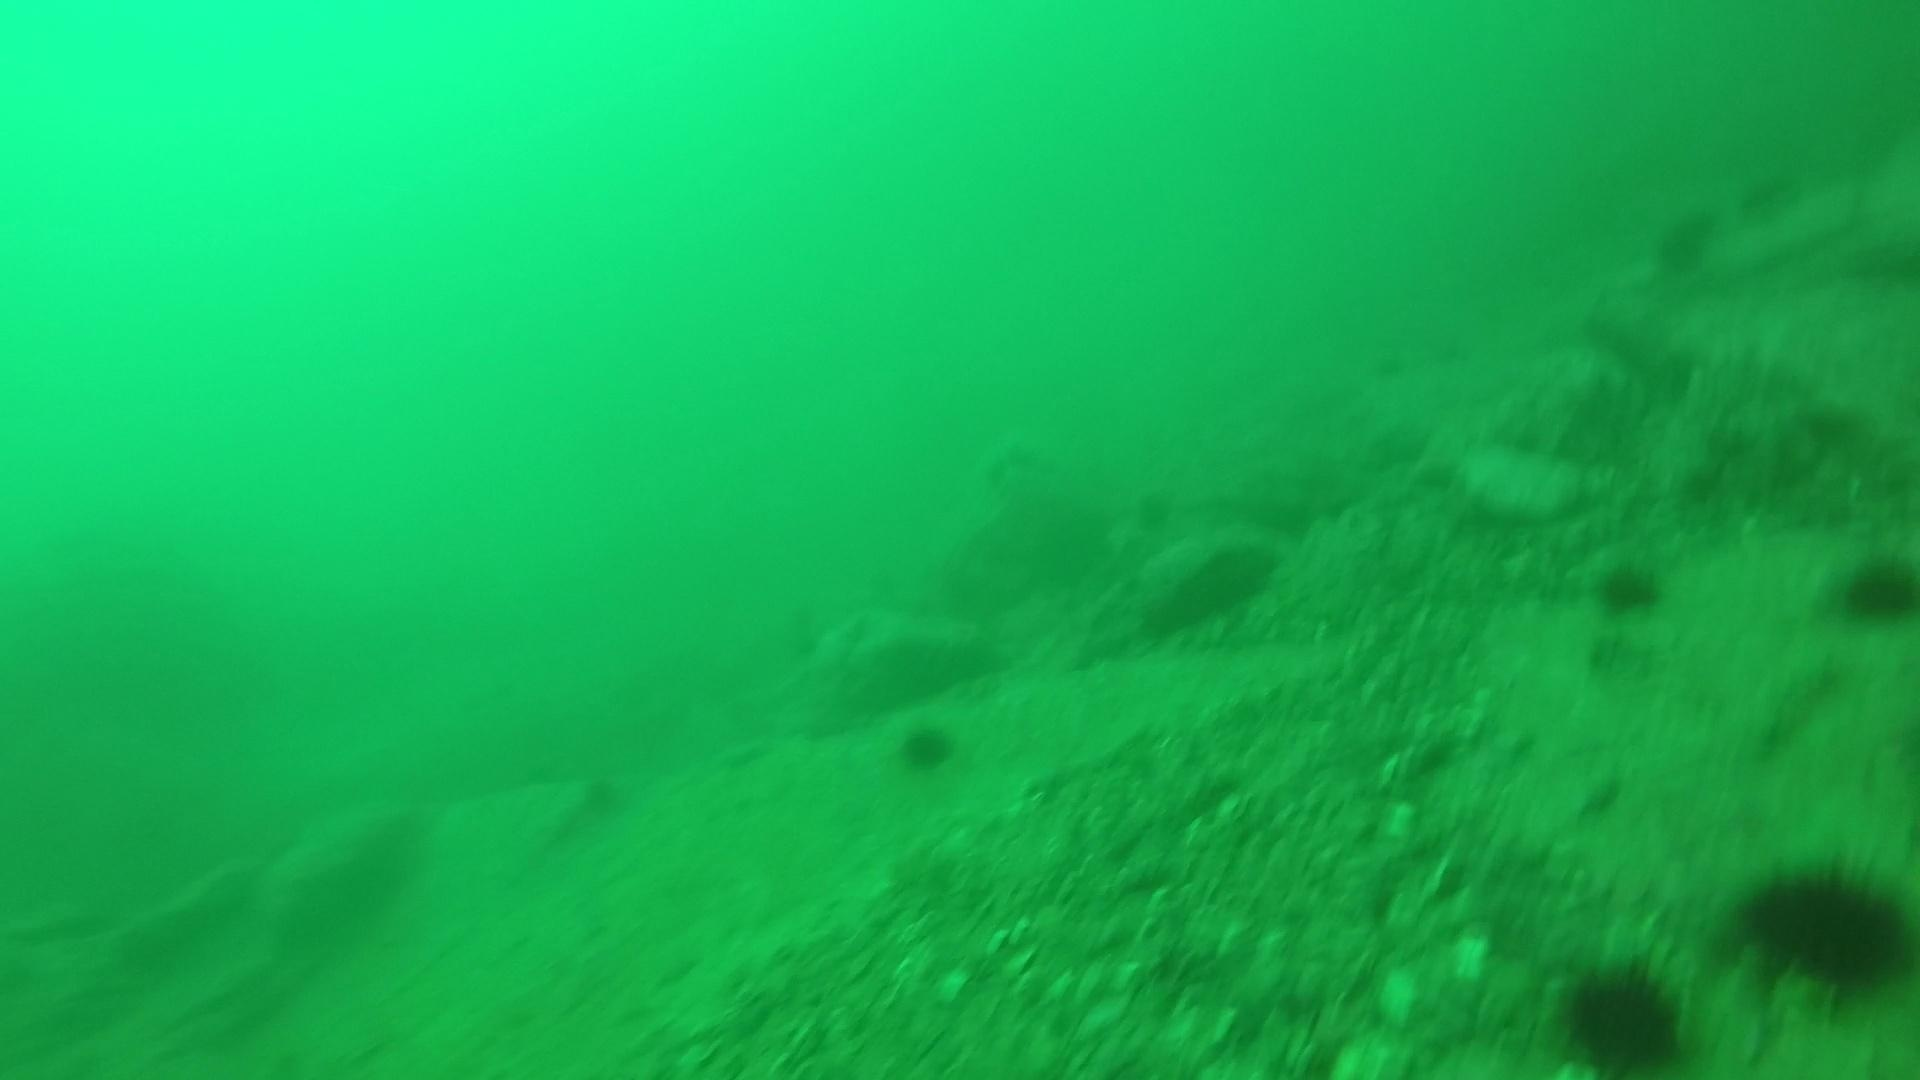echinus: (1735, 849, 1915, 1004), (1553, 953, 1691, 1072), (1141, 535, 1280, 636), (1832, 546, 1919, 630), (1650, 203, 1722, 276), (1727, 162, 1799, 233), (1590, 555, 1667, 621), (891, 716, 961, 775)
